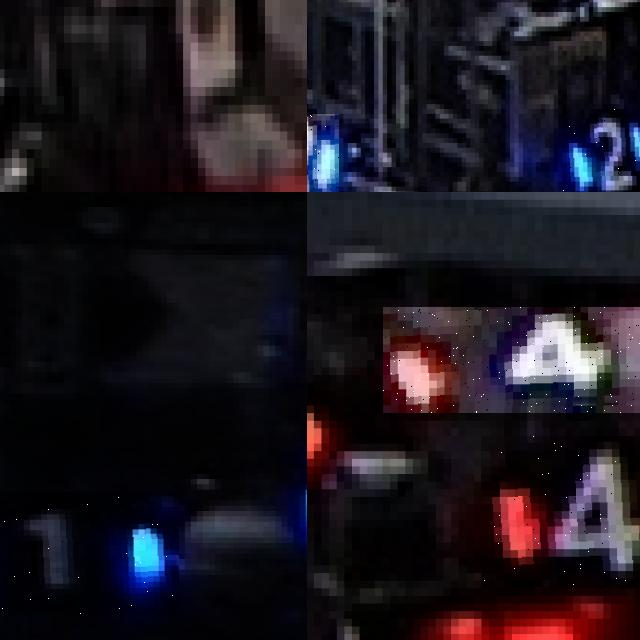B1: (0, 492, 178, 614)
B2: (562, 109, 640, 192), (307, 113, 339, 192)
R4: (382, 306, 640, 413), (481, 435, 640, 588), (307, 352, 329, 489)
